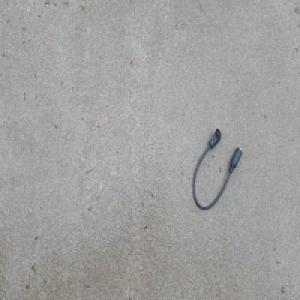Wire: (192, 129, 243, 212)
